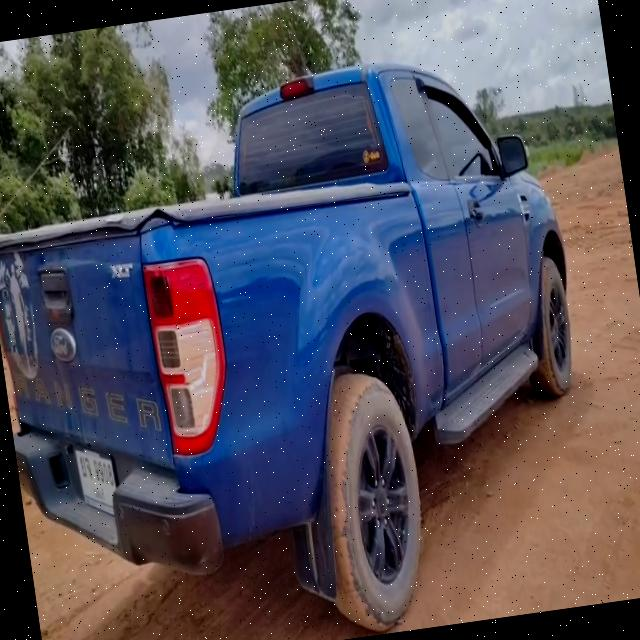Digit: (93, 456, 115, 491)
Licenseplate: (74, 445, 123, 518)
Provincename: (92, 484, 105, 504)
Thaichar: (78, 452, 92, 480)
